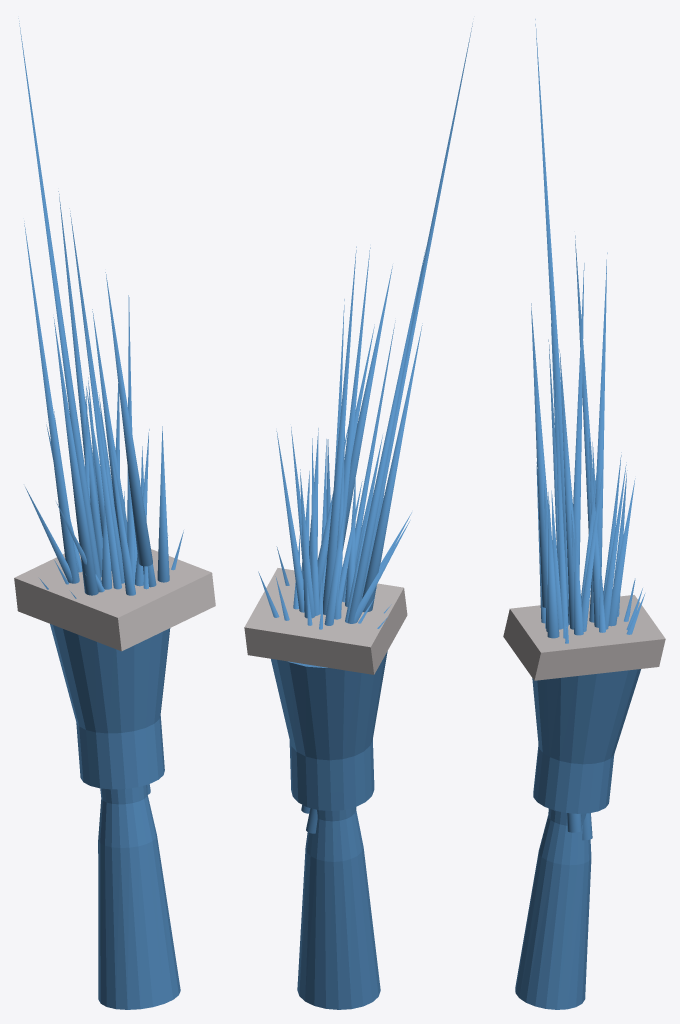
File: Sharpcolumn.fbx
3 renders of one model, left to right at view 1: azimuth 30°, elevation 25°; view 2: azimuth 150°, elevation 25°; view 3: azimuth 270°, elevation 25°, orthographic. The views are drawn at different scales.
Parts seen in each view (by area): view 1: IceColumn, snow, SharpneedleTop4 (×3), SharpneedleTop (×2), SharpneedleTop3 (×2), SharpneedleTop2, SharpneedleTop12, SharpneedleTop13, SharpneedleTop7, SharpneedleTop5, SharpneedleTop1, SharpneedleTop9 (+1 smaller); view 2: IceColumn, snow, SharpneedleTop12 (×3), SharpneedleTop4 (×2), SharpneedleTop2 (×2), SharpneedleTop3 (×2), SharpneedleTop, SharpneedleTop13, SharpneedleTop14, SharpneedleTop11, SharpneedleTop1; view 3: IceColumn, snow, SharpneedleTop4 (×3), SharpneedleTop12 (×3), SharpneedleTop (×2), SharpneedleTop13 (×3), SharpneedleTop7 (×2), SharpneedleTop2, SharpneedleTop1, SharpneedleTop14, SharpneedleTop8.
Part boxes in pixels (x1,y1,x2,y2): IceColumn: (50, 624, 180, 1009); snow: (14, 549, 215, 651); SharpneedleTop4 (×3): (18, 18, 150, 794); SharpneedleTop (×2): (105, 272, 169, 582); SharpneedleTop3 (×2): (53, 317, 111, 595); SharpneedleTop2: (24, 221, 79, 583); SharpneedleTop12: (58, 191, 102, 577); SharpneedleTop13: (69, 208, 124, 583); SharpneedleTop7: (92, 309, 135, 574); SharpneedleTop5: (110, 441, 135, 595); SharpneedleTop1: (86, 386, 111, 571); SharpneedleTop9: (25, 487, 72, 583); IceColumn: (271, 651, 387, 1009); snow: (244, 568, 407, 674); SharpneedleTop12 (×3): (276, 246, 356, 615); SharpneedleTop4 (×2): (301, 23, 472, 833); SharpneedleTop2 (×2): (334, 249, 425, 623); SharpneedleTop3 (×2): (345, 323, 422, 612); SharpneedleTop: (343, 266, 392, 549); SharpneedleTop13: (342, 247, 370, 550); SharpneedleTop14: (300, 469, 315, 618); SharpneedleTop11: (324, 490, 347, 625); SharpneedleTop1: (317, 424, 348, 598); IceColumn: (515, 669, 640, 1009); snow: (503, 595, 665, 680); SharpneedleTop4 (×3): (535, 19, 592, 840); SharpneedleTop12 (×3): (589, 252, 626, 629); SharpneedleTop (×2): (531, 303, 559, 638); SharpneedleTop13 (×3): (568, 263, 603, 631); SharpneedleTop7 (×2): (559, 349, 583, 635); SharpneedleTop2: (575, 235, 592, 533); SharpneedleTop1: (588, 435, 603, 627); SharpneedleTop14: (608, 478, 635, 626); SharpneedleTop8: (551, 490, 563, 629).
Bounding box in the file's own units: 13.53 × 67 × 10.65.
